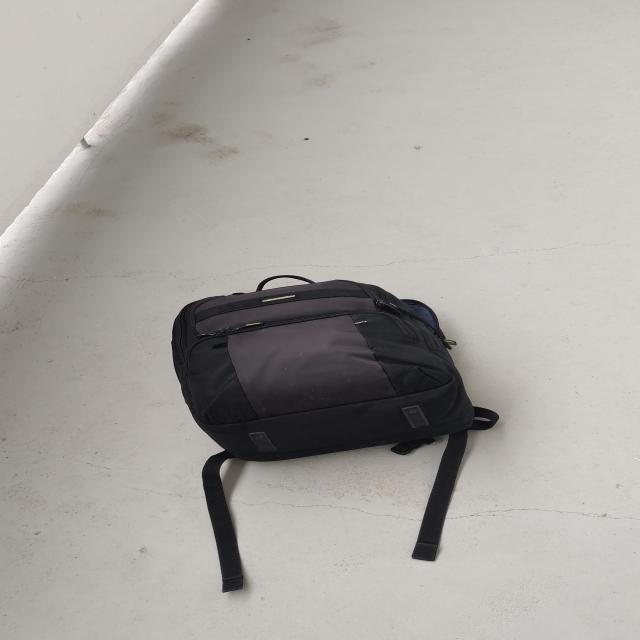backpack: (158, 270, 487, 472)
